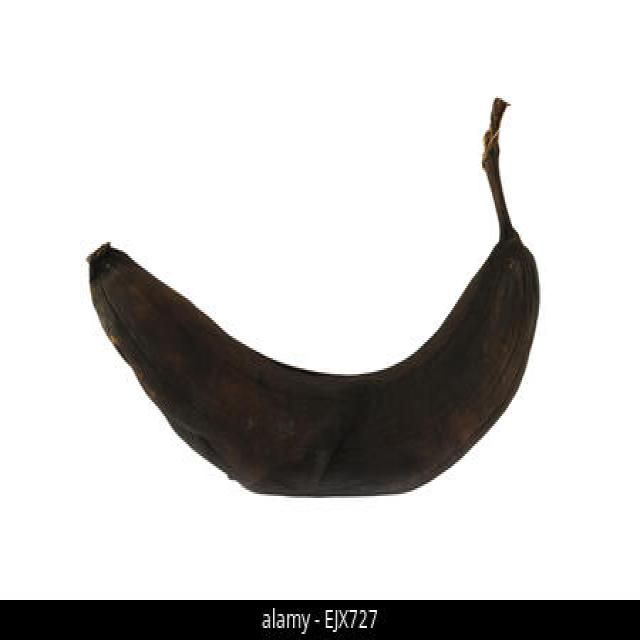Rotten: (88, 95, 541, 499)
